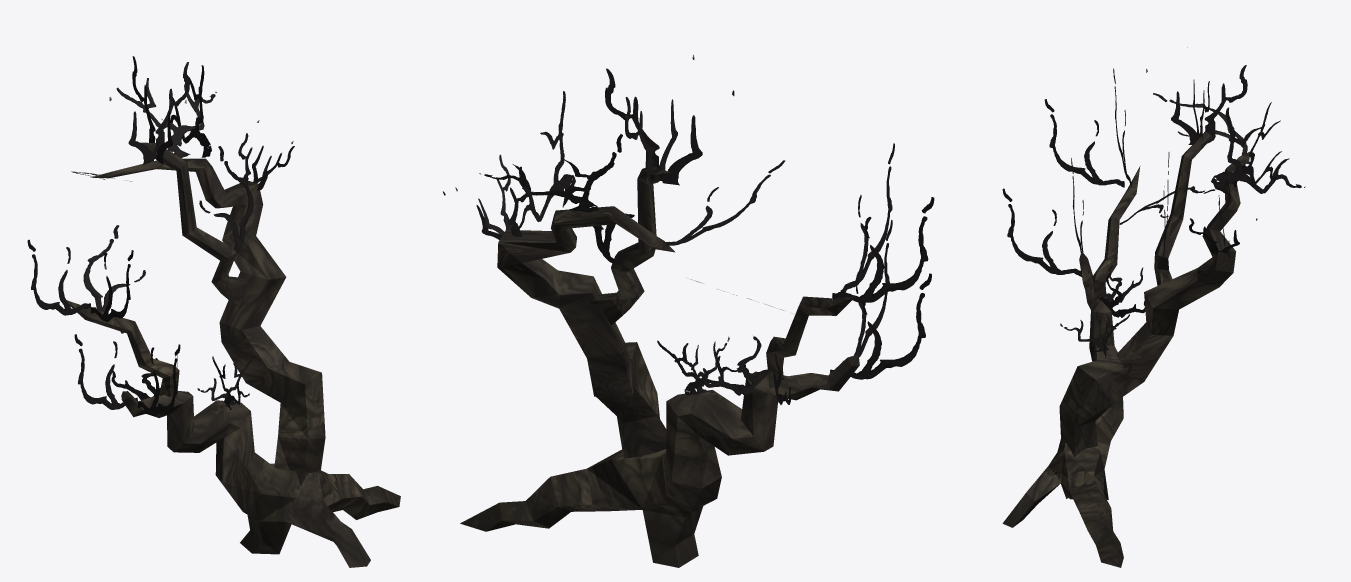
Rendered from huoguankushu3.FBX.
3 renders of one model, left to right at view 1: azimuth 30°, elevation 25°; view 2: azimuth 150°, elevation 25°; view 3: azimuth 270°, elevation 25°, orthographic. The views are drawn at different scales.
Visible parts, largest first — view 1: huoguankushu03; view 2: huoguankushu03; view 3: huoguankushu03.
Part boxes in pixels (left/top/right/bottom): huoguankushu03: left=27, top=56, right=400, bottom=567; huoguankushu03: left=443, top=55, right=934, bottom=567; huoguankushu03: left=1002, top=47, right=1305, bottom=567.
Bounding box in the file's own units: 776 × 643 × 890.
